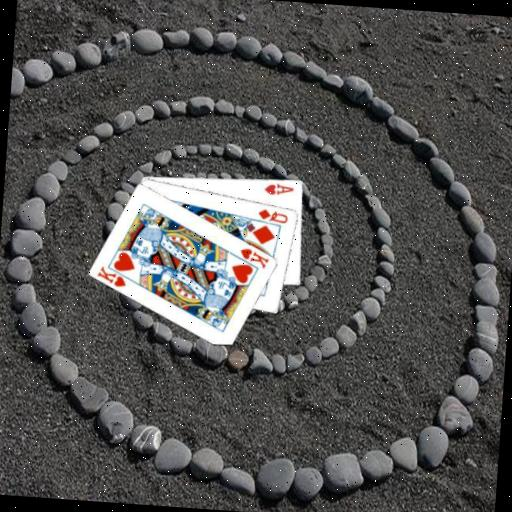AH: (262, 180, 296, 198)
KH: (236, 245, 272, 271), (95, 263, 129, 289)
QD: (255, 205, 290, 225)
